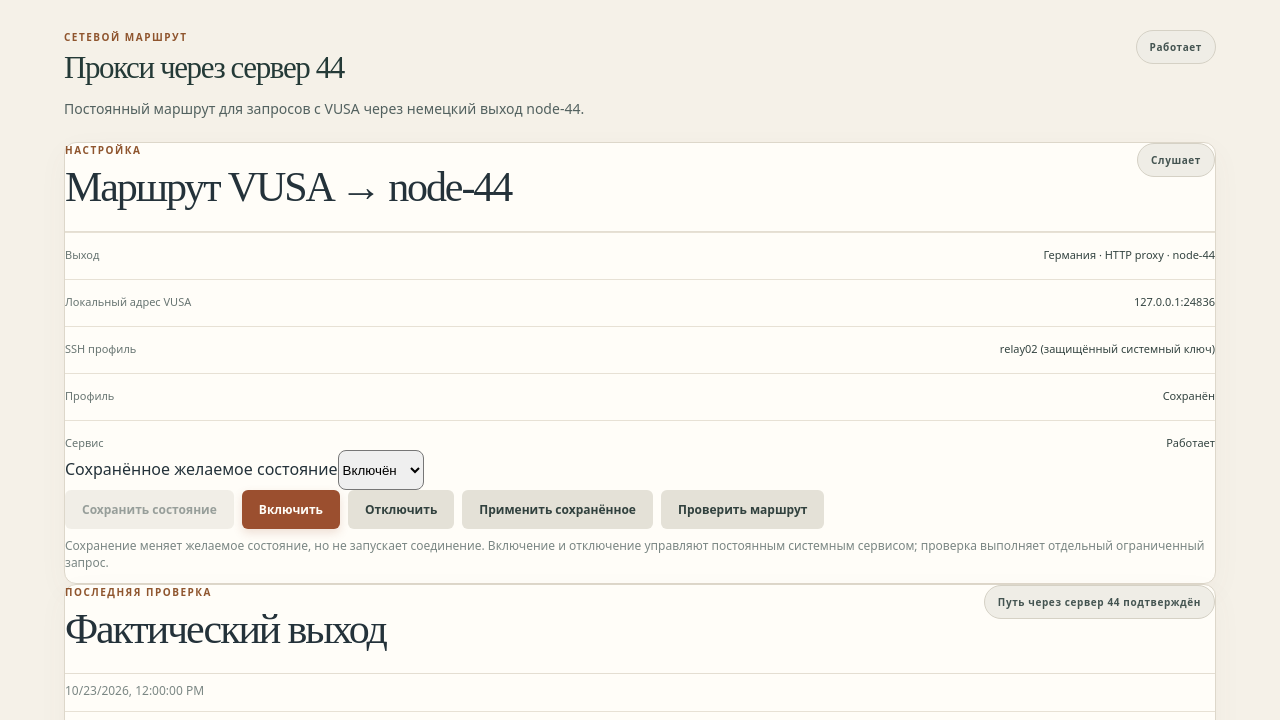
Test: shows fresh state but leaves a rejected action outcome unconfirmed
Expected: the text "Слушает" is shown, [1137,143,1215,177]
Click the button "Отключить": (401, 510) [348,490,454,529]
(page scrolled)
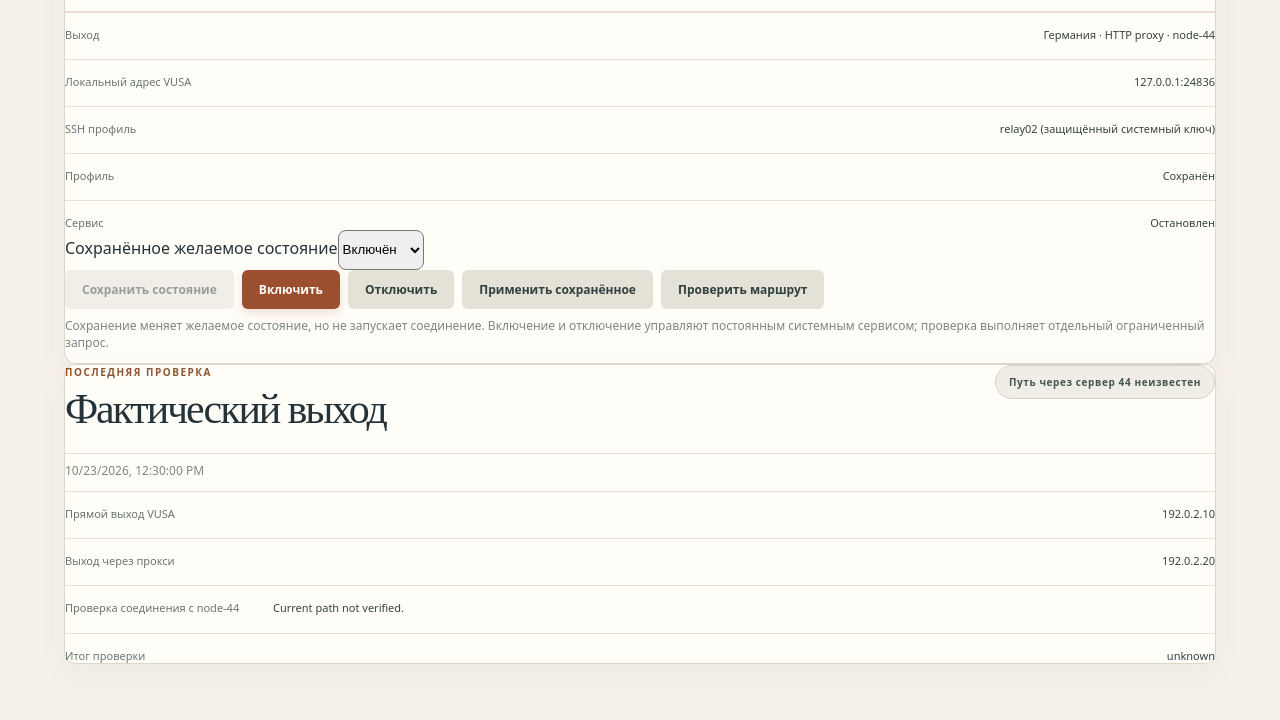
Now the text "192.0.2.10" is shown, box [1162,506,1215,521]
Now the text "192.0.2.20" is shown, box [1162,553,1215,568]
